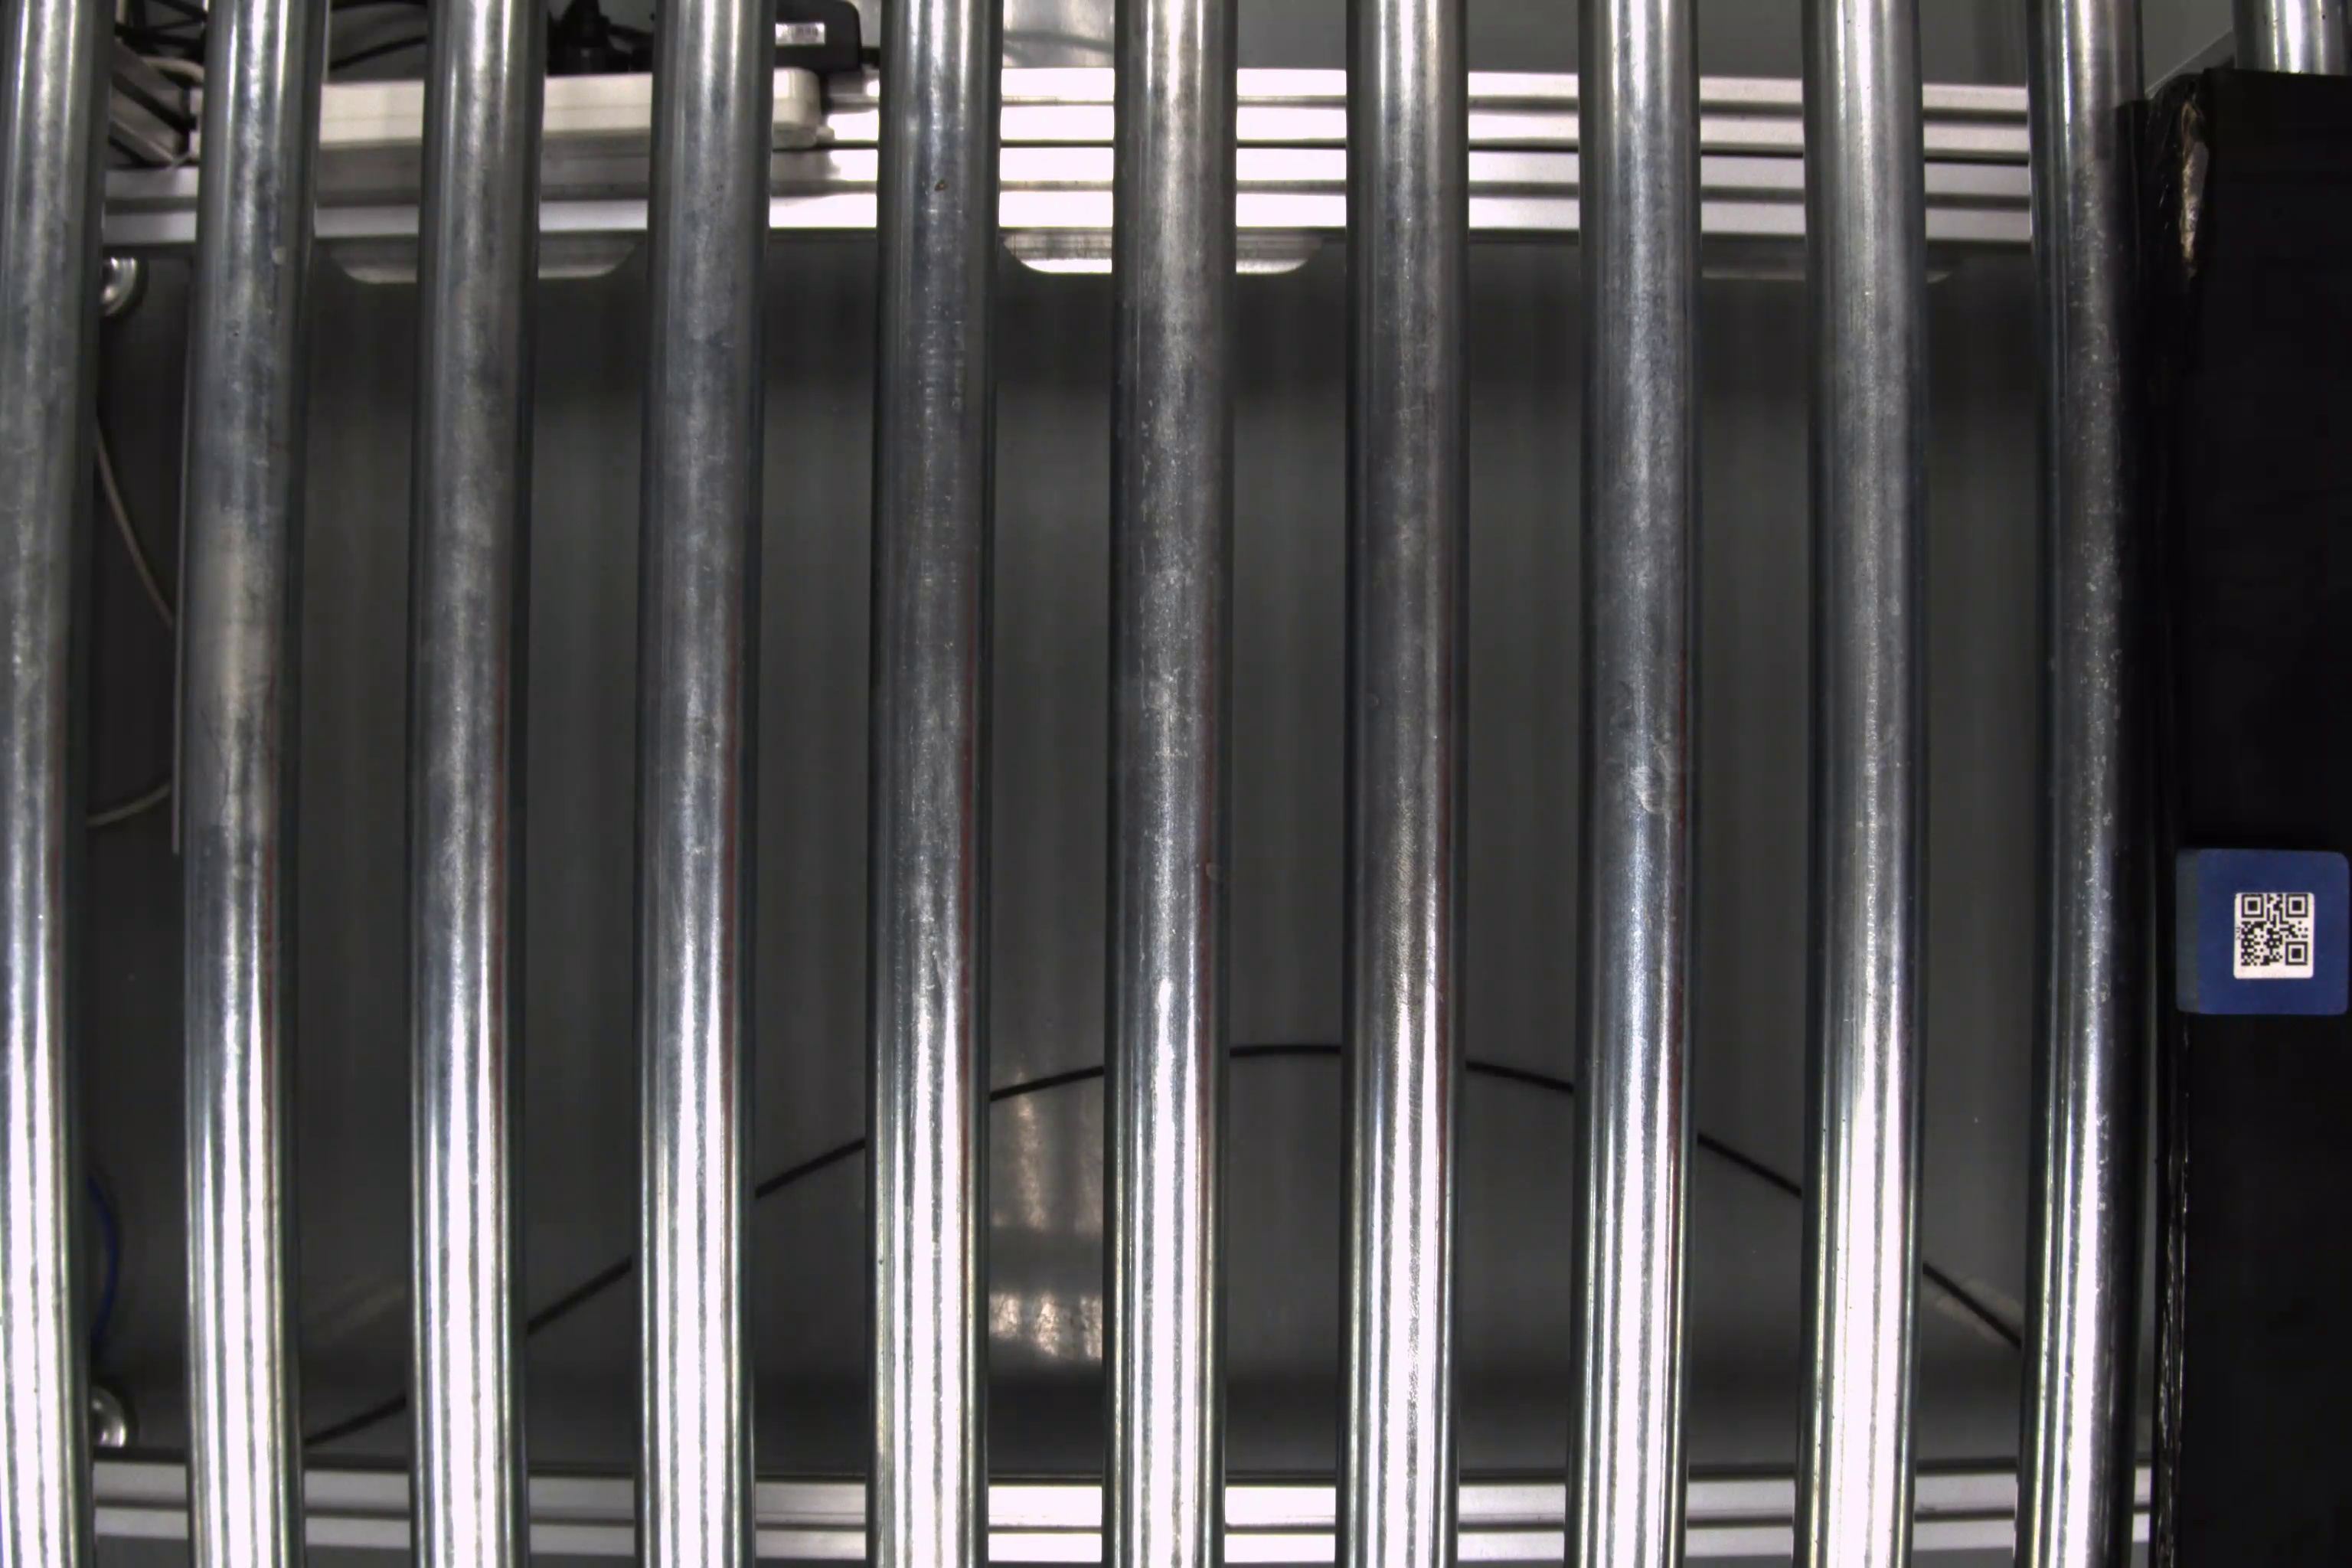wood: (2170, 843, 2352, 1025)
